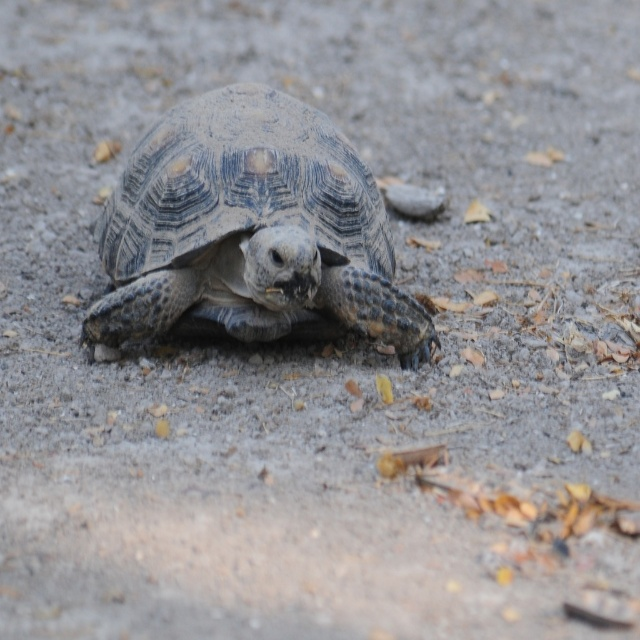Sea turtle: (80, 78, 441, 377)
